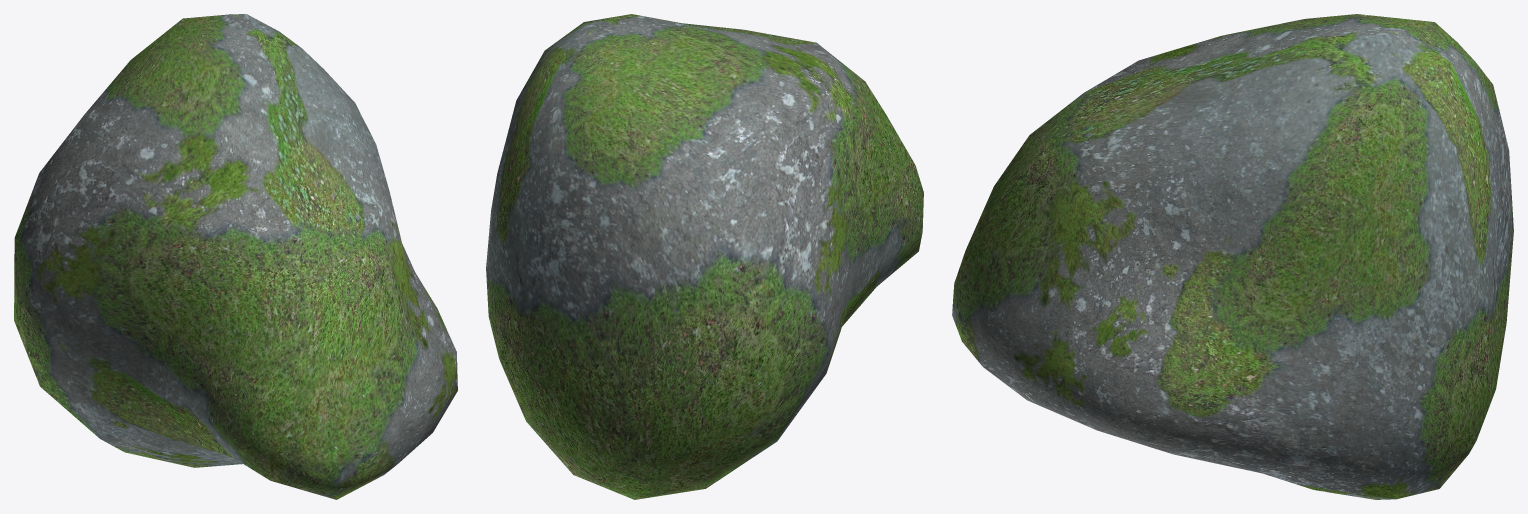
File: Mossy Rock 2.obj
The picture shows the model from 3 angles, left to right: view 1: azimuth 30°, elevation 25°; view 2: azimuth 150°, elevation 25°; view 3: azimuth 270°, elevation 25°; orthographic projection. The views are drawn at different scales.
Visible parts, largest first — view 1: Mossy_Rock_2; view 2: Mossy_Rock_2; view 3: Mossy_Rock_2.
Part boxes in pixels (x1=…): Mossy_Rock_2: x1=14, y1=14, x2=457, y2=499; Mossy_Rock_2: x1=486, y1=14, x2=923, y2=499; Mossy_Rock_2: x1=952, y1=14, x2=1513, y2=499.
Size of the model in its own units: 1.53 by 1.95 by 2.08.
